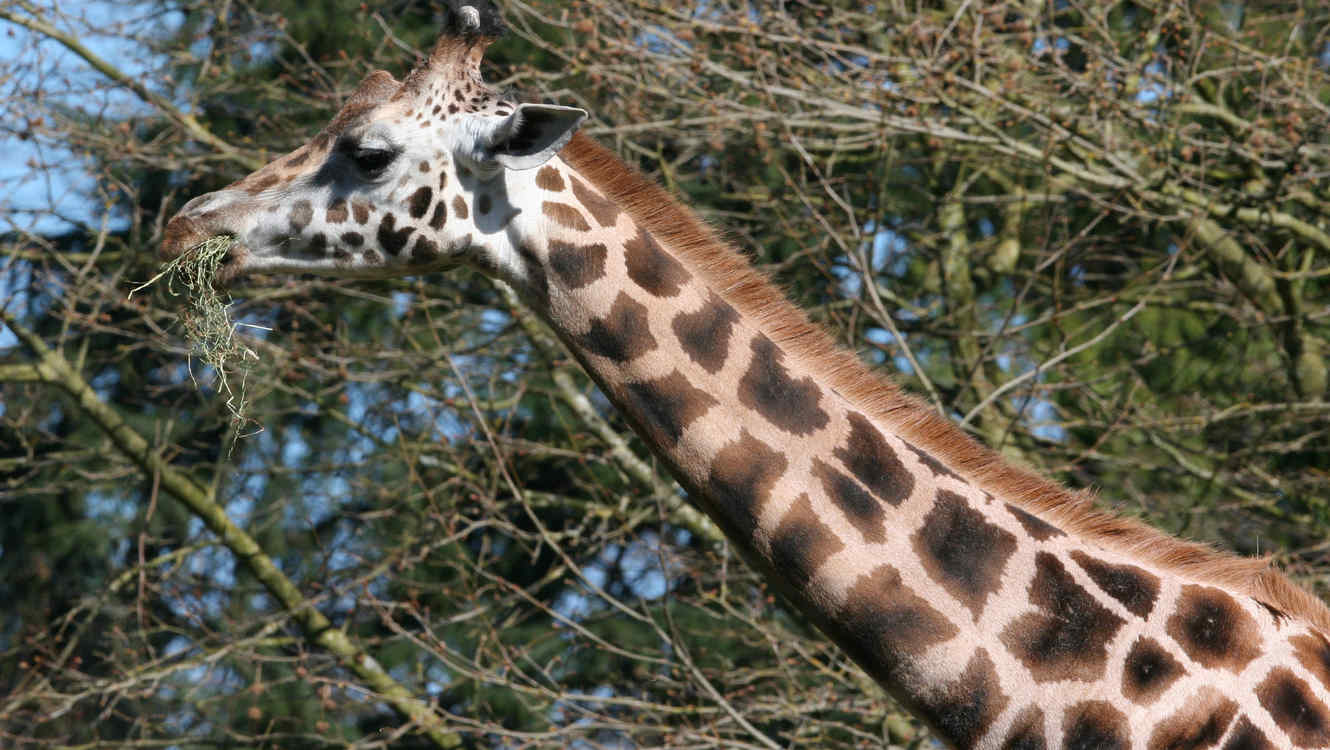Jirafa: (103, 14, 1058, 616)
